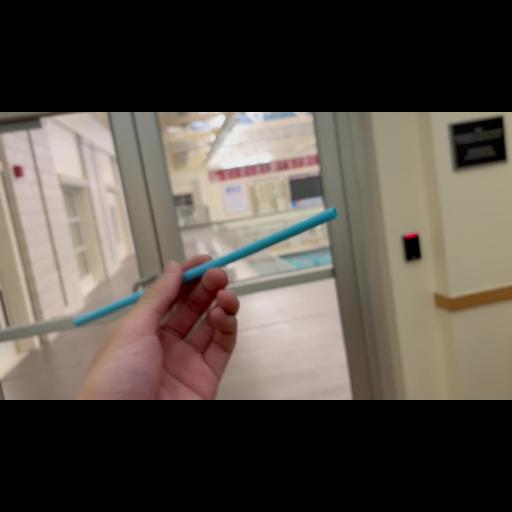straw: (72, 204, 342, 332)
